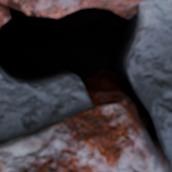brick: (0, 102, 169, 171)
broken_brick: (0, 0, 148, 16), (0, 6, 8, 23)
crack: (0, 2, 171, 169)
